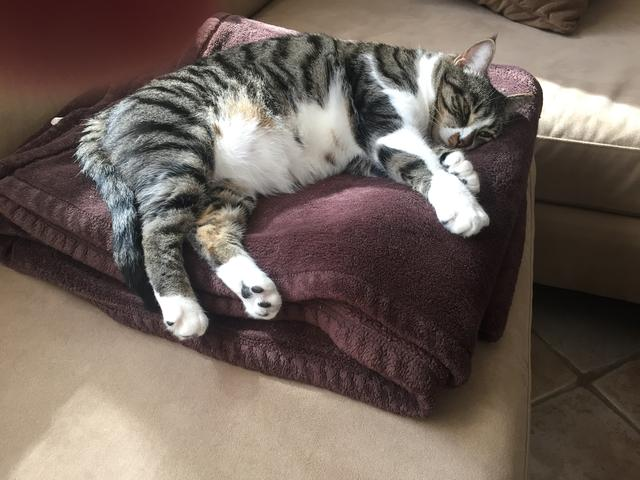playdoh: (72, 30, 529, 341)
